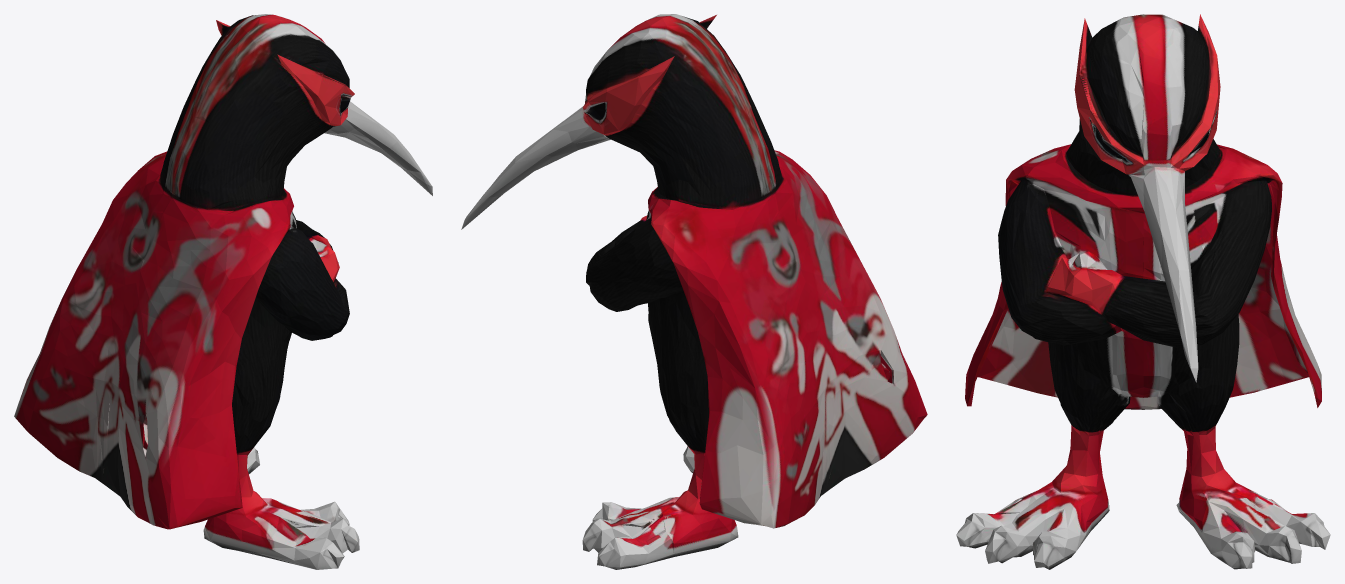
The model's file is 205-D99YVmvA.glb.
The picture shows the model from 3 angles, left to right: view 1: azimuth 30°, elevation 25°; view 2: azimuth 150°, elevation 25°; view 3: azimuth 270°, elevation 25°; orthographic projection. The views are drawn at different scales.
Parts seen in each view (by area): view 1: tripo_node_ded9bb6f-0983-4e07-a869-9b85e7968c12; view 2: tripo_node_ded9bb6f-0983-4e07-a869-9b85e7968c12; view 3: tripo_node_ded9bb6f-0983-4e07-a869-9b85e7968c12.
Boxes of the visible parts, x1,y1,x2,y2 form: tripo_node_ded9bb6f-0983-4e07-a869-9b85e7968c12: (14,14,432,569); tripo_node_ded9bb6f-0983-4e07-a869-9b85e7968c12: (461,14,927,569); tripo_node_ded9bb6f-0983-4e07-a869-9b85e7968c12: (956,14,1330,569).
Size of the model in its own units: 0.7883 by 0.9985 by 0.6301.
Materials: 1 (1 with a texture image).
